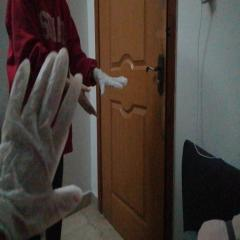gloved: (0, 48, 83, 240), (95, 68, 127, 92)
not-gloved: (82, 85, 98, 119)
